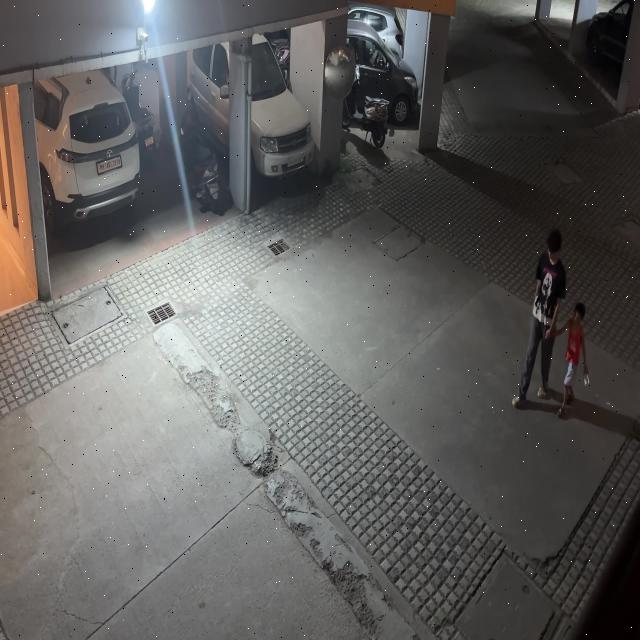human: (509, 221, 567, 398), (553, 283, 592, 423)
trash: (578, 362, 594, 388)
